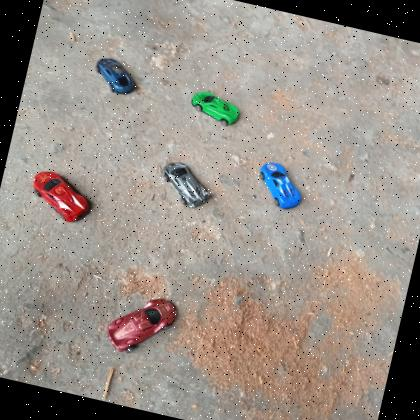Car: (100, 286, 180, 363), (24, 167, 96, 228), (155, 158, 217, 213), (252, 158, 309, 212), (186, 86, 244, 129), (90, 54, 141, 98)
